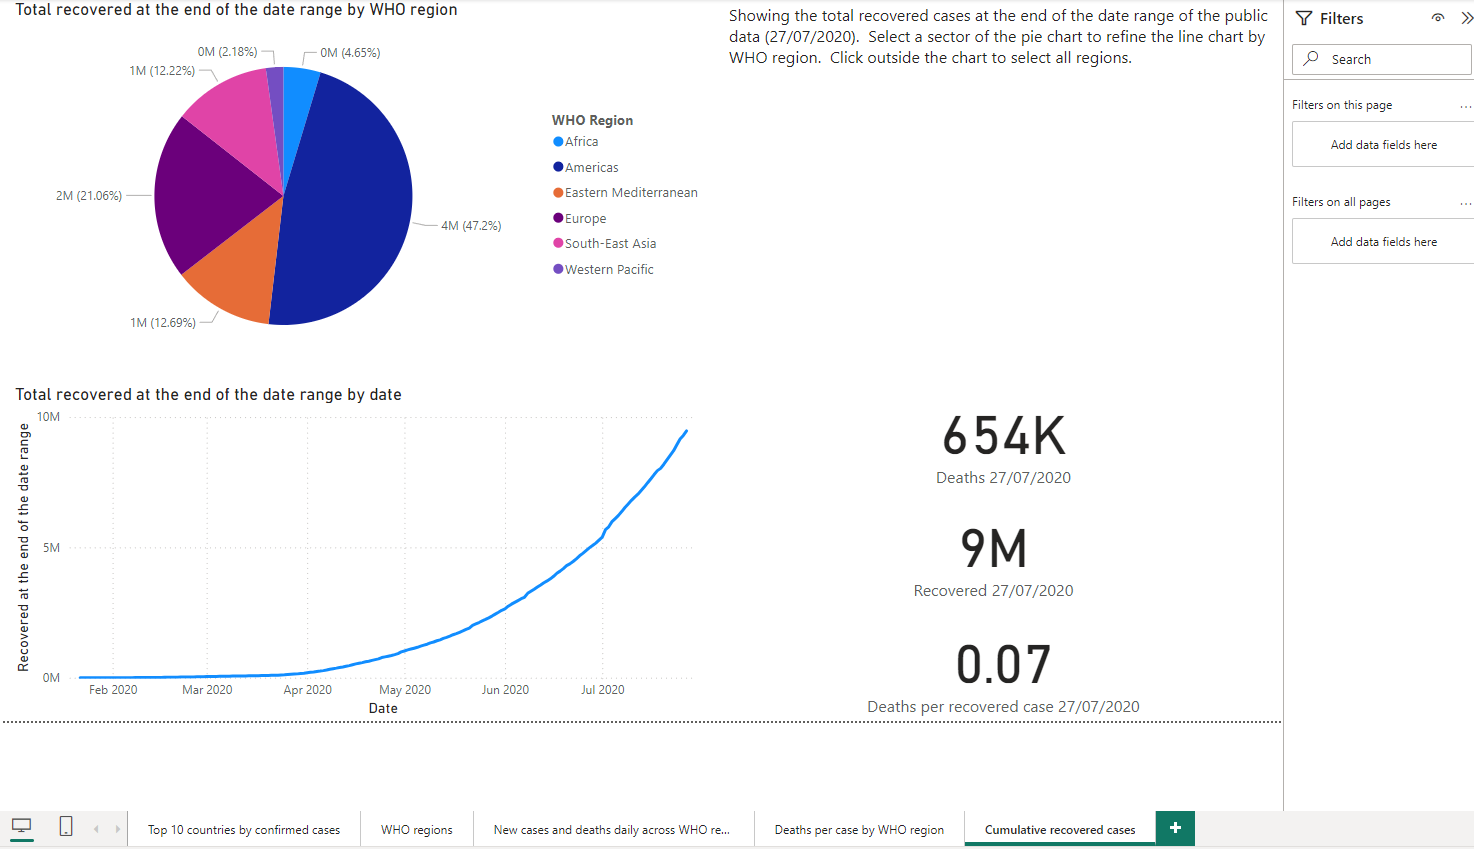

This screenshot's page, from the dashboard's own definition file:
{"tool":"powerbi","page":{"name":"Cumulative recovered cases","canvas":[1280,720],"ordinal":4},"visuals":[{"type":"pieChart","title":"Total recovered at the end of the date range by WHO region","fields":{"Series":["full_grouped.WHO Region"],"Y":["full_grouped.RecoveredAtEndOfDateRange"]},"box":[10.5,0,701.6,374],"z":0},{"type":"lineChart","title":"Total recovered at the end of the date range by date","fields":{"Y":["full_grouped.RecoveredAtEndOfDateRange"],"Category":["full_grouped.Date"]},"box":[10,384,702,336],"z":1000},{"type":"textbox","box":[722,0,558,374],"z":2000},{"type":"card","fields":{"Values":["full_grouped.DeathsAtEndOfDateRange"]},"box":[722.5,384.5,557.5,108],"z":3000},{"type":"card","fields":{"Values":["full_grouped.RecoveredAtEndOfDateRange"]},"box":[712,497.1,557.5,108],"z":4000},{"type":"card","fields":{"Values":["full_grouped.DeathsPerRecovered"]},"box":[722.5,612.1,557.5,108],"z":5000}]}

Visuals, with their boxes on the page's 1280x720 design canvas (x1, y1, x2, y2). These are canvas units, not pixel positions in the 1474x849 screenshot, which may show the page scaled, cropped or inside an application window:
"Total recovered at the end of the date range by WHO region" pieChart: left=10, top=0, right=712, bottom=374
"Total recovered at the end of the date range by date" lineChart: left=10, top=384, right=712, bottom=720
textbox: left=722, top=0, right=1280, bottom=374
card - full_grouped.DeathsAtEndOfDateRange: left=722, top=384, right=1280, bottom=492
card - full_grouped.RecoveredAtEndOfDateRange: left=712, top=497, right=1270, bottom=605
card - full_grouped.DeathsPerRecovered: left=722, top=612, right=1280, bottom=720
